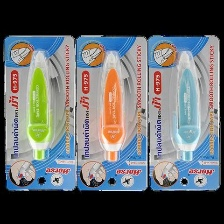book: (146, 31, 224, 193), (74, 32, 148, 192), (3, 33, 75, 193)
correction_fluid: (169, 49, 203, 161), (98, 48, 128, 163), (25, 47, 54, 161)
